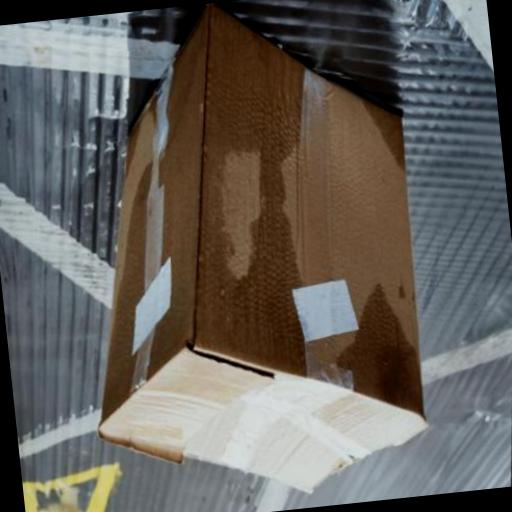wet: (53, 0, 475, 512)
